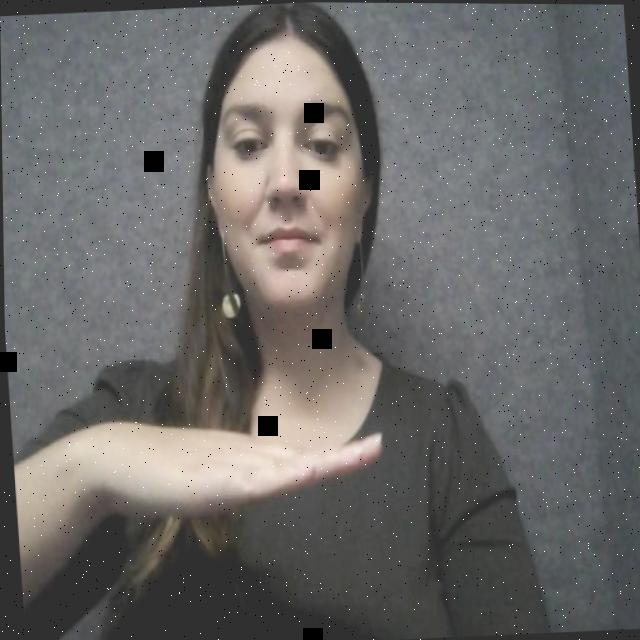Paper: (96, 389, 395, 562)
